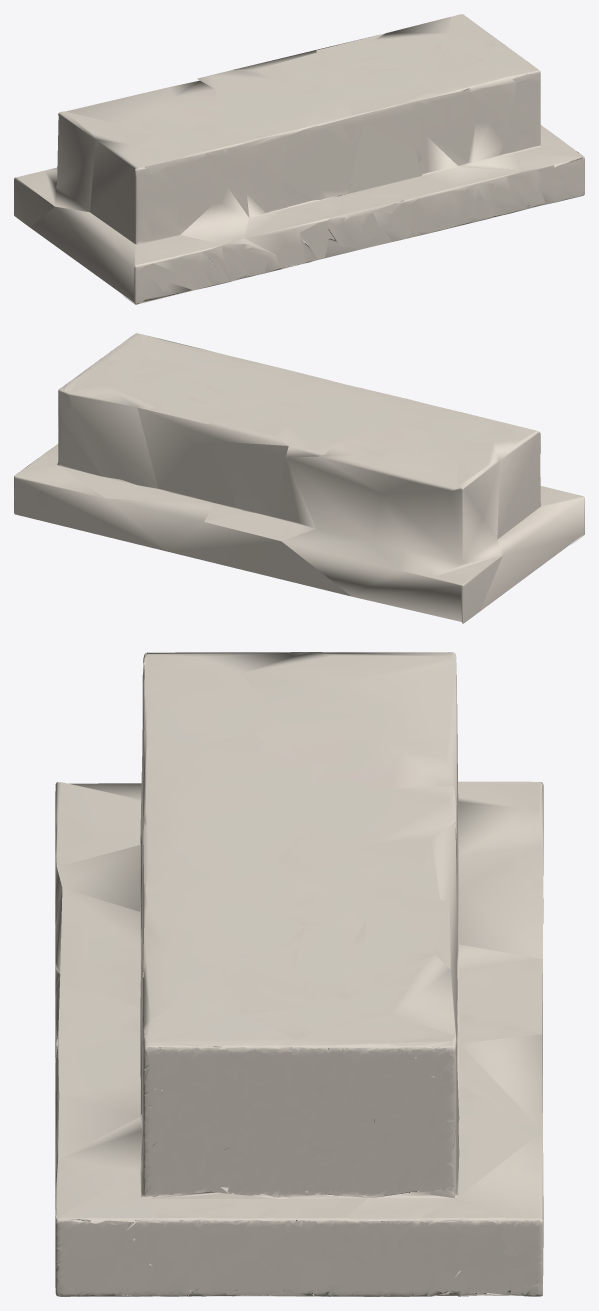
Rendered from plinth-cream-stone.glb.
3 views of the same model, one above another, from view 1: azimuth 30°, elevation 25°; view 2: azimuth 150°, elevation 25°; view 3: azimuth 270°, elevation 25° (orthographic). The views are drawn at different scales.
Visible parts, largest first — view 1: mesh_node; view 2: mesh_node; view 3: mesh_node.
Boxes of the visible parts, x1,y1,x2,y2 form: mesh_node: (14, 14, 584, 304); mesh_node: (14, 333, 584, 623); mesh_node: (55, 652, 543, 1296).
Bounding box in the file's own units: 1.9 × 0.4642 × 0.8939.
Materials: 1 (1 with a texture image).
